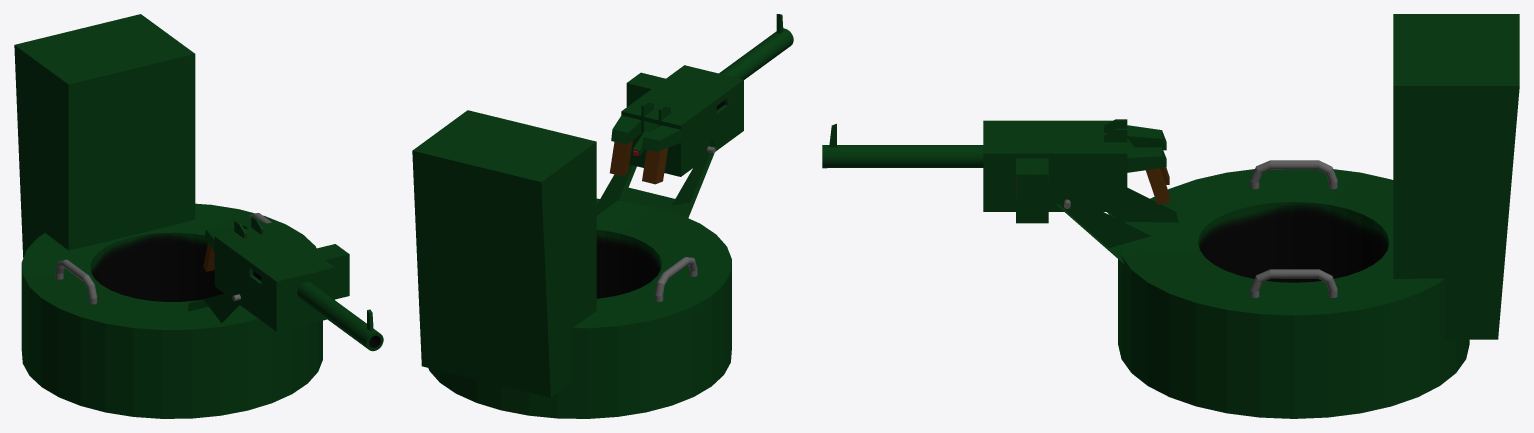
File: Torreta.fbx
3 renders of one model, left to right at view 1: azimuth 30°, elevation 25°; view 2: azimuth 150°, elevation 25°; view 3: azimuth 270°, elevation 25°, orthographic. The views are drawn at different scales.
Parts seen in each view (by area): view 1: Torreta; view 2: Torreta; view 3: Torreta.
Part boxes in pixels (x1,y1,x2,y2): Torreta: (14, 14, 383, 418); Torreta: (412, 14, 793, 418); Torreta: (822, 14, 1519, 418).
Bounding box in the file's own units: 149 × 139 × 296.
1 material, 1 textured.
